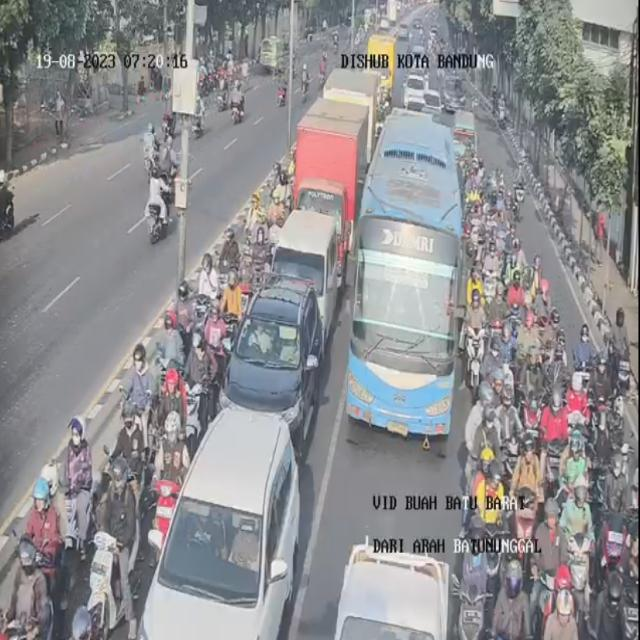bus: (343, 110, 462, 439)
cars: (134, 408, 303, 640), (214, 290, 328, 454), (335, 526, 451, 640), (273, 207, 339, 333), (451, 108, 480, 167), (440, 68, 466, 109), (408, 72, 430, 108), (422, 87, 438, 117)
motorcycle: (89, 458, 141, 628), (141, 400, 201, 545), (546, 478, 594, 594), (0, 533, 52, 637), (55, 409, 94, 539), (602, 437, 640, 567), (535, 487, 580, 596), (446, 513, 486, 631), (24, 477, 57, 600), (608, 515, 638, 640), (182, 321, 217, 420), (462, 446, 507, 523), (120, 342, 156, 433), (110, 398, 148, 480), (600, 297, 629, 402), (514, 440, 546, 535), (535, 562, 576, 634), (214, 266, 248, 336), (584, 343, 612, 426), (542, 386, 567, 478), (465, 389, 496, 460), (190, 252, 218, 326), (158, 352, 178, 448), (577, 316, 606, 382), (462, 284, 482, 376), (170, 276, 198, 341), (464, 258, 493, 318), (498, 553, 518, 639), (260, 155, 284, 222), (533, 270, 559, 331), (157, 298, 182, 361), (542, 327, 569, 385), (488, 320, 514, 380), (480, 234, 503, 300), (518, 382, 540, 450), (562, 419, 584, 487), (238, 189, 265, 244), (462, 201, 487, 258), (512, 298, 538, 351), (498, 372, 518, 440), (510, 342, 536, 394), (245, 228, 268, 286), (509, 166, 532, 219), (504, 240, 525, 286), (190, 283, 210, 331), (215, 223, 233, 268), (488, 187, 505, 229), (562, 368, 576, 416), (490, 86, 508, 122), (474, 160, 494, 191), (508, 268, 523, 303), (274, 166, 290, 198), (507, 234, 524, 264), (459, 165, 476, 195), (488, 165, 504, 188), (470, 187, 485, 210), (372, 89, 382, 121), (382, 88, 396, 105)
truck: (288, 98, 371, 276), (322, 65, 375, 165), (368, 29, 392, 98)
